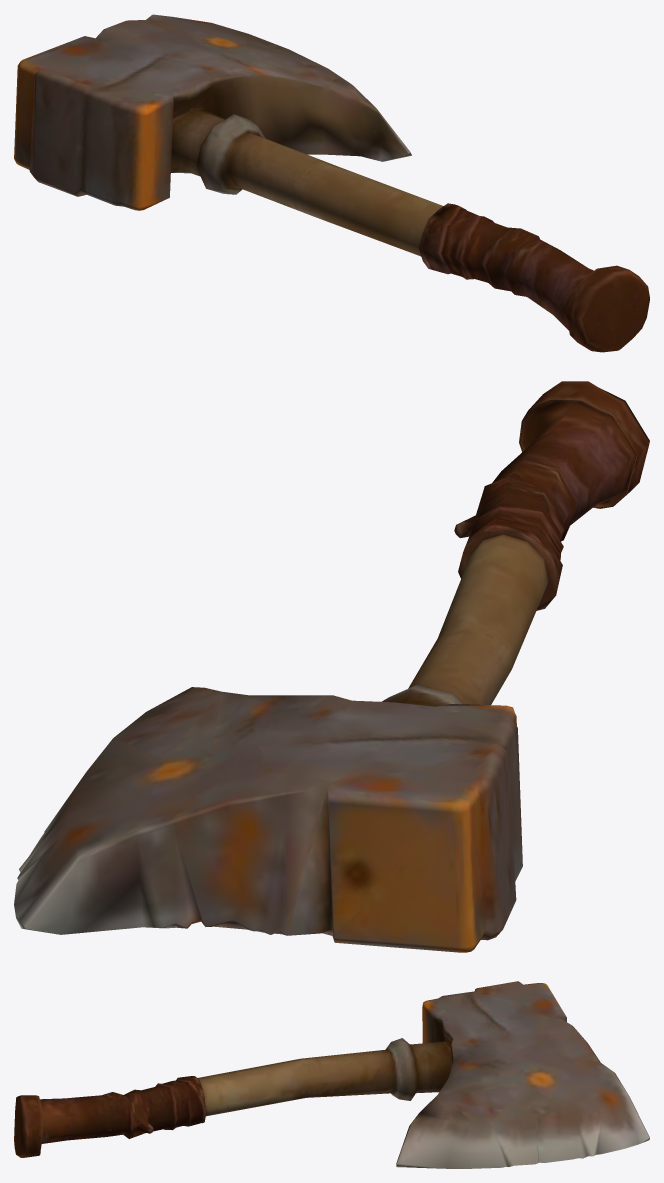
Rendered from g_hatchet.fbx.
3 renders of one model, top to bottom at view 1: azimuth 30°, elevation 25°; view 2: azimuth 150°, elevation 25°; view 3: azimuth 270°, elevation 25°, orthographic. The views are drawn at different scales.
Parts seen in each view (by area): view 1: tripo_node_6e4f67a4-850b-4221-9774-91aceb3775cc; view 2: tripo_node_6e4f67a4-850b-4221-9774-91aceb3775cc; view 3: tripo_node_6e4f67a4-850b-4221-9774-91aceb3775cc.
Boxes of the visible parts, x1,y1,x2,y2 form: tripo_node_6e4f67a4-850b-4221-9774-91aceb3775cc: (14,14,649,352); tripo_node_6e4f67a4-850b-4221-9774-91aceb3775cc: (14,381,649,952); tripo_node_6e4f67a4-850b-4221-9774-91aceb3775cc: (14,981,649,1168).
Size of the model in its own units: 0.4392 by 0.1542 by 1.02.
1 material, 1 textured.
